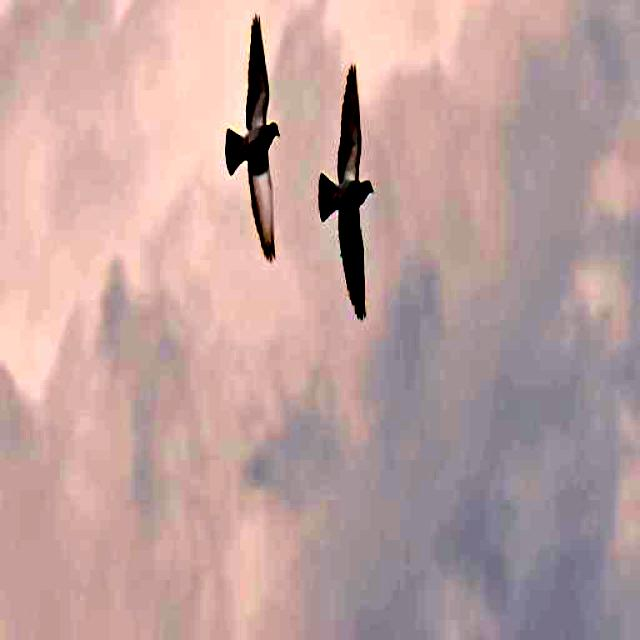airplane: (318, 39, 389, 354), (228, 0, 294, 278)
